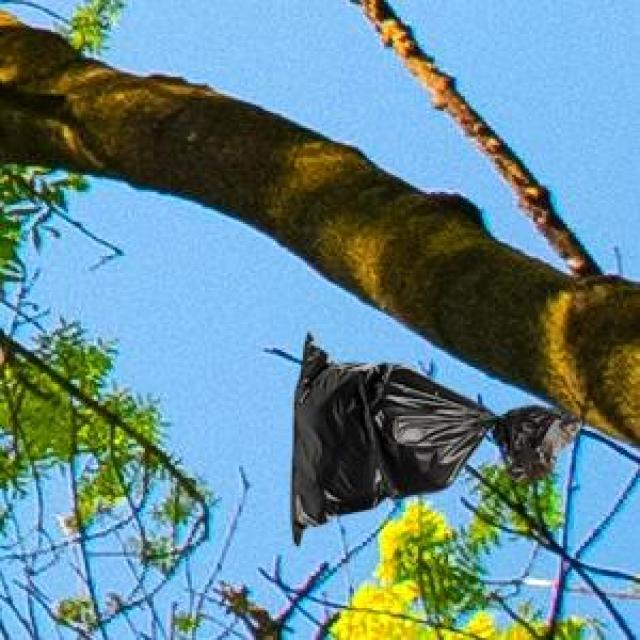Garbage_Bag: (289, 332, 579, 543)
